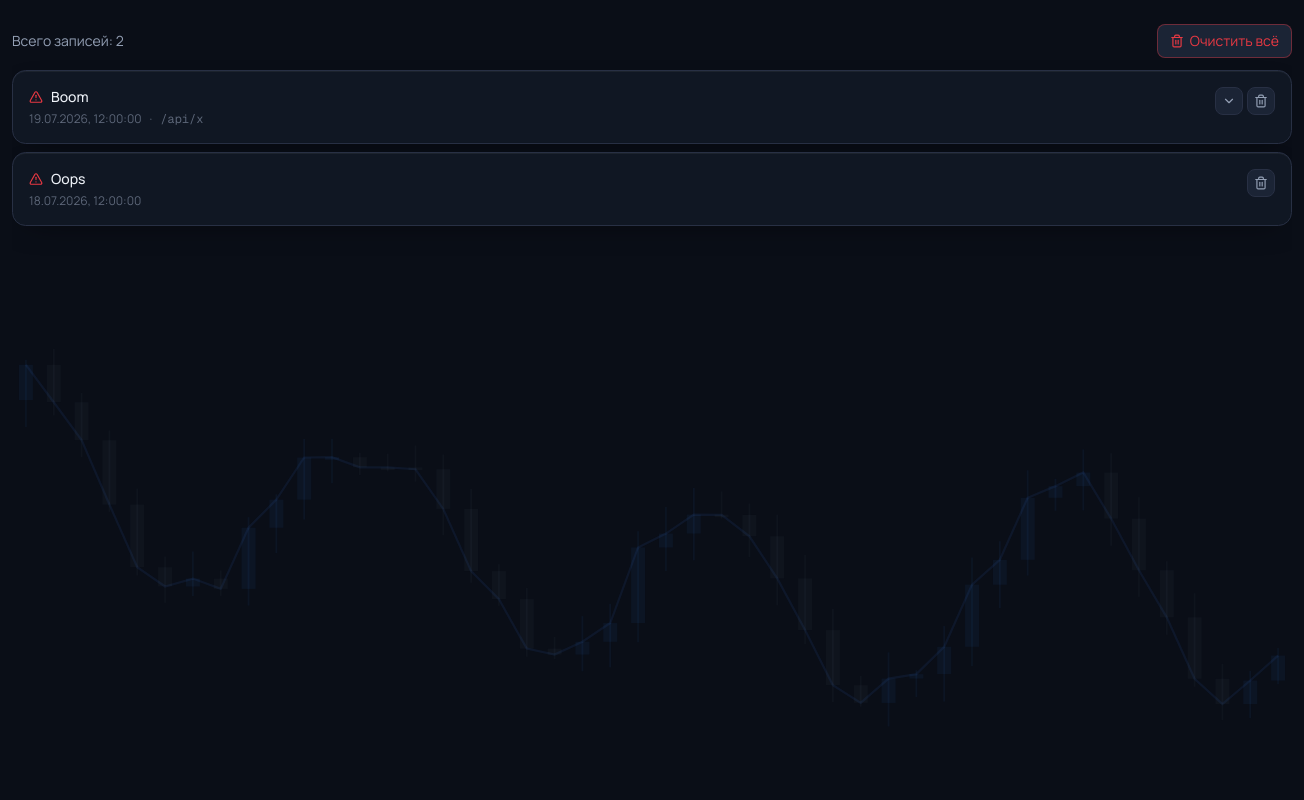
Test: AdminErrors › expands and collapses the stack trace
Expected: the text "Boom" is shown, [51,87,89,107]
Expected: the text "at foo" is not shown
Click the button titled "Стек вызова" at (1229,101), box [1215,87,1243,115]
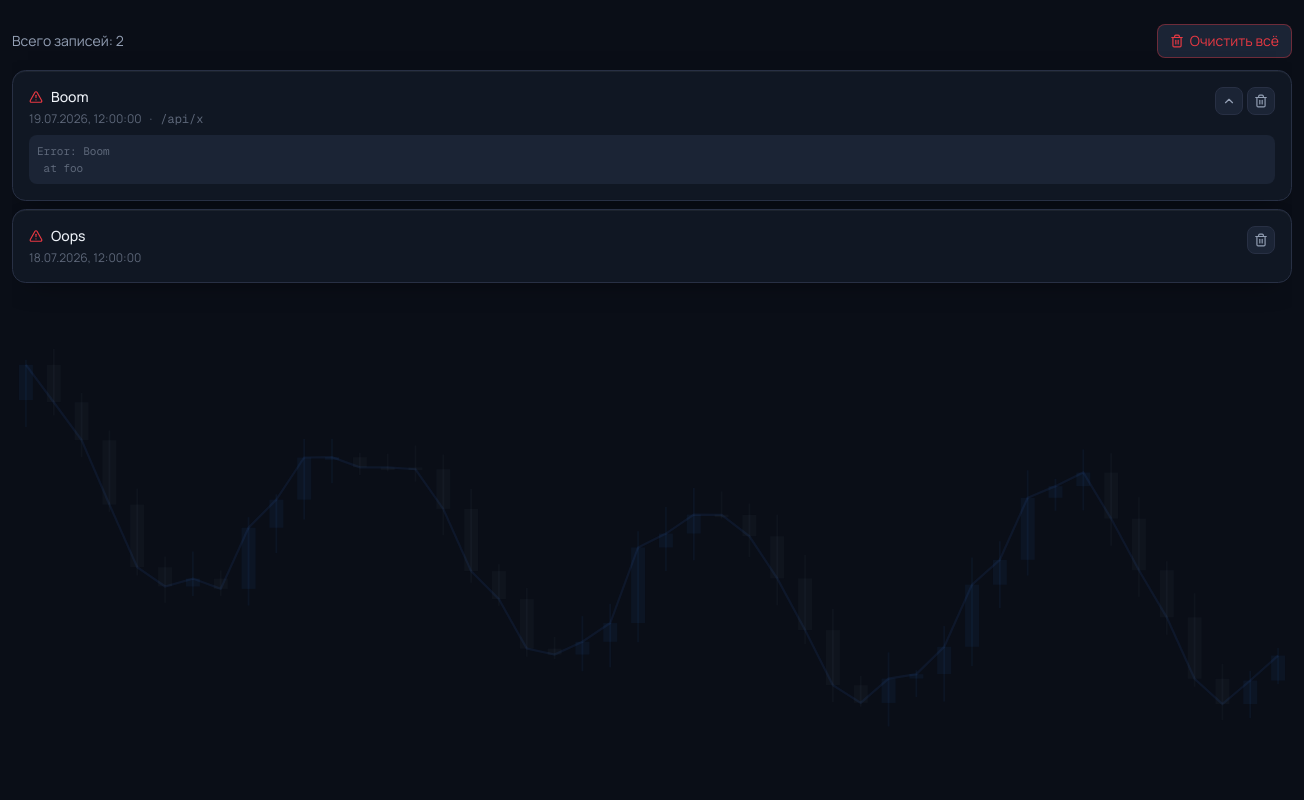
Expected: the text "Error: Boom at foo" is shown, [29,135,1275,184]
Click the button titled "Стек вызова" at (1229,101), box [1215,87,1243,115]
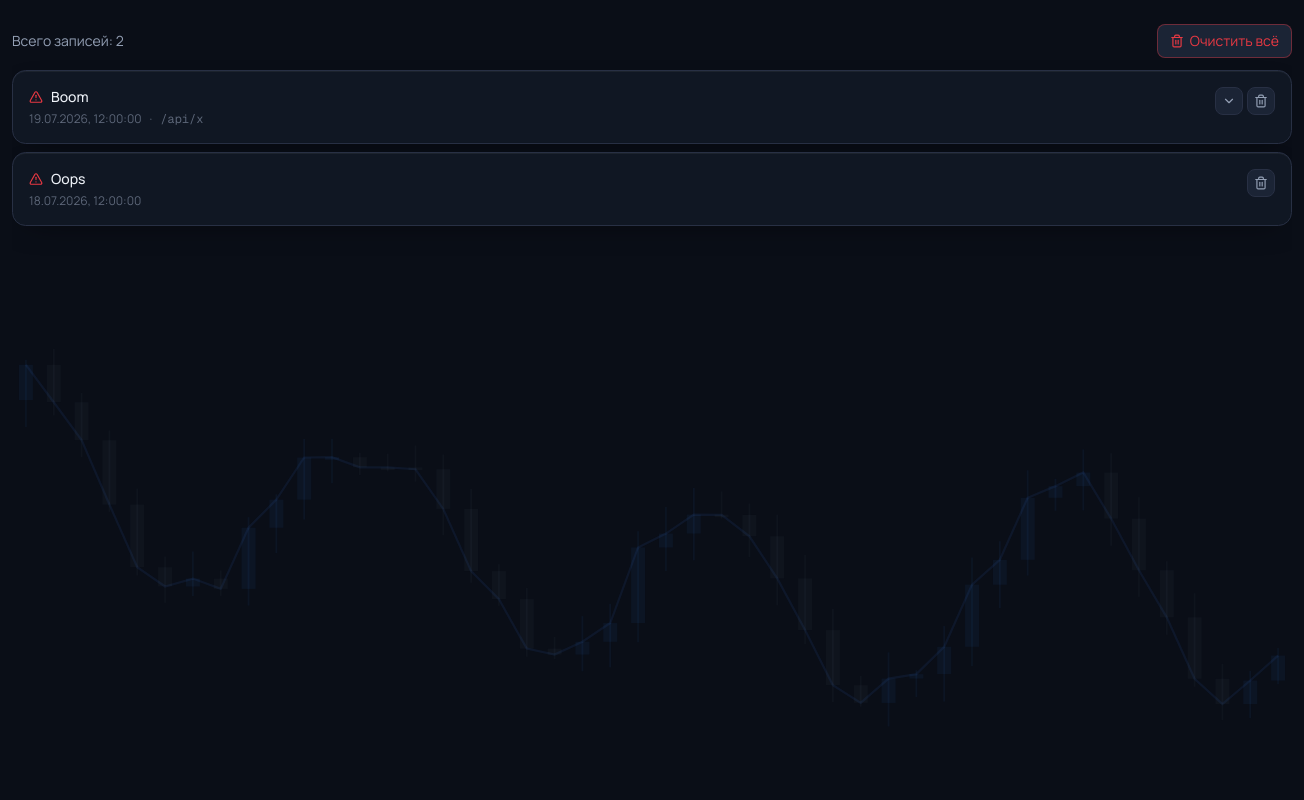
Expected: the text "at foo" is gone
